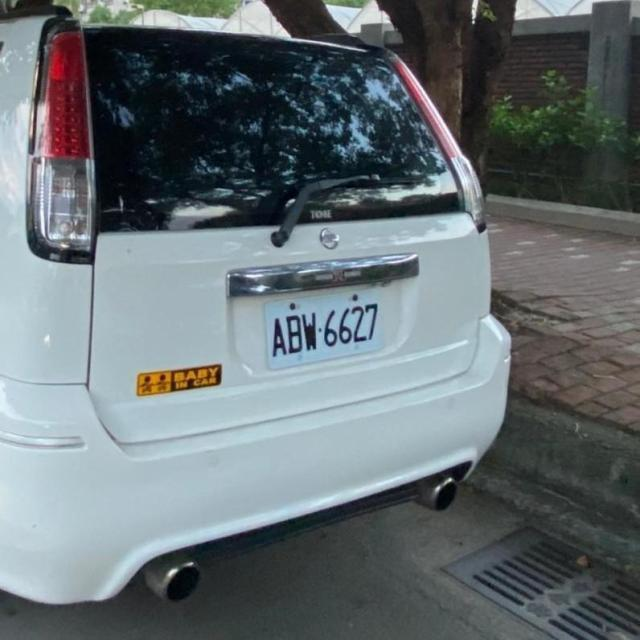W: (261, 286, 387, 366)
